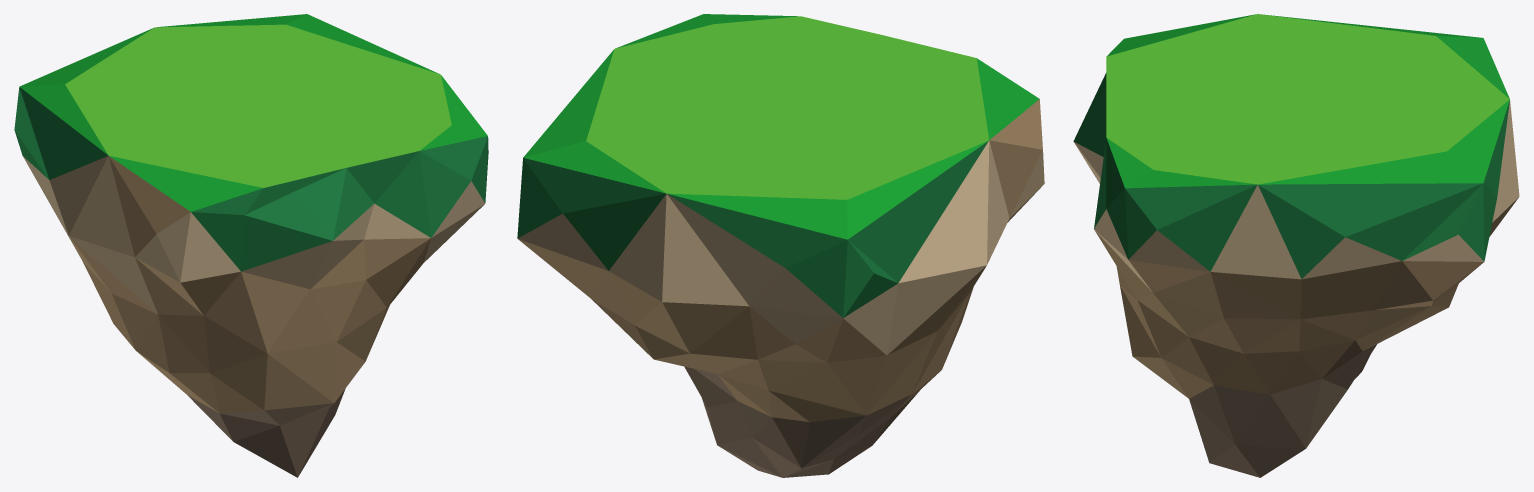
File: small island.fbx
The picture shows the model from 3 angles, left to right: view 1: azimuth 30°, elevation 25°; view 2: azimuth 150°, elevation 25°; view 3: azimuth 270°, elevation 25°; orthographic projection. The views are drawn at different scales.
Visible parts, largest first — view 1: Cube; view 2: Cube; view 3: Cube.
Part boxes in pixels (x1,y1,x2,y2): Cube: [14, 14, 488, 477]; Cube: [517, 14, 1044, 477]; Cube: [1073, 14, 1519, 477].
Size of the model in its own units: 5350 by 4974 by 5526.
